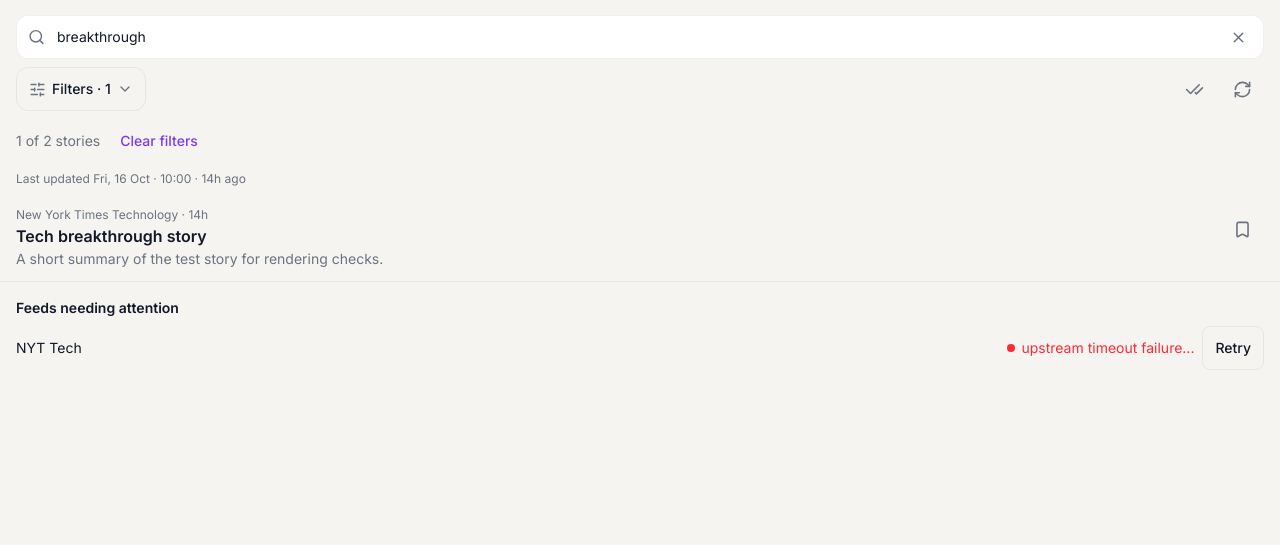
Test: FeedView › reveals the chips on expand and still filters with them
Click the button "Filters · 1" at (81, 89), box [16, 67, 146, 111]
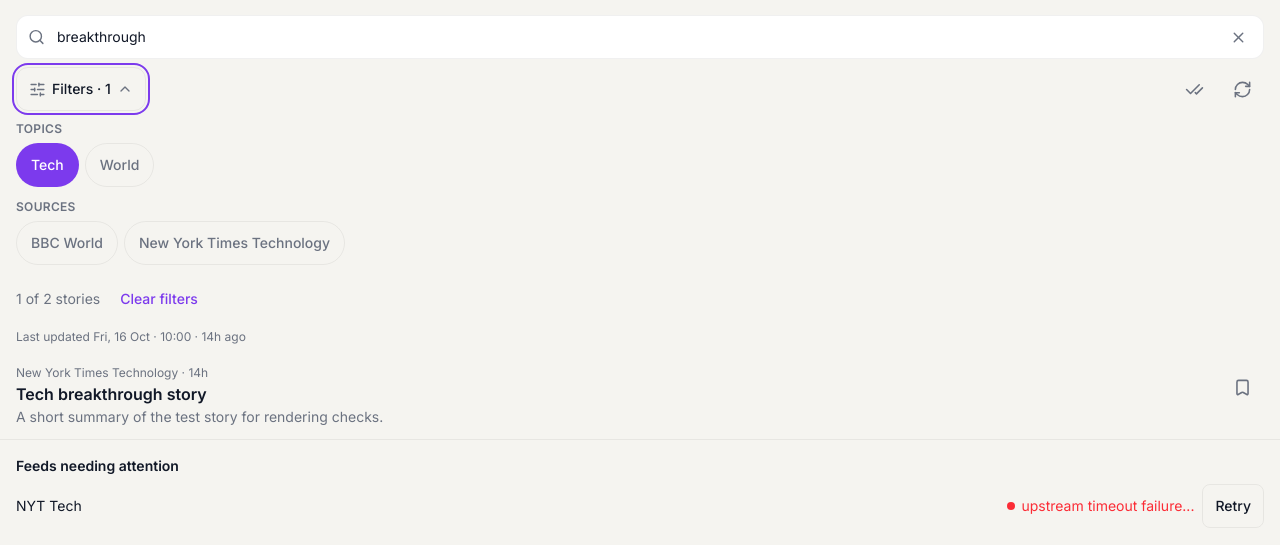
Expected: the button "Filters · 1" is expanded, [16, 67, 146, 111]
Expected: the element named "Topics" is shown, [16, 143, 154, 187]
Expected: the element named "Sources" is shown, [16, 221, 345, 265]
Click the button "Tech" at (47, 165), box [16, 143, 79, 187]
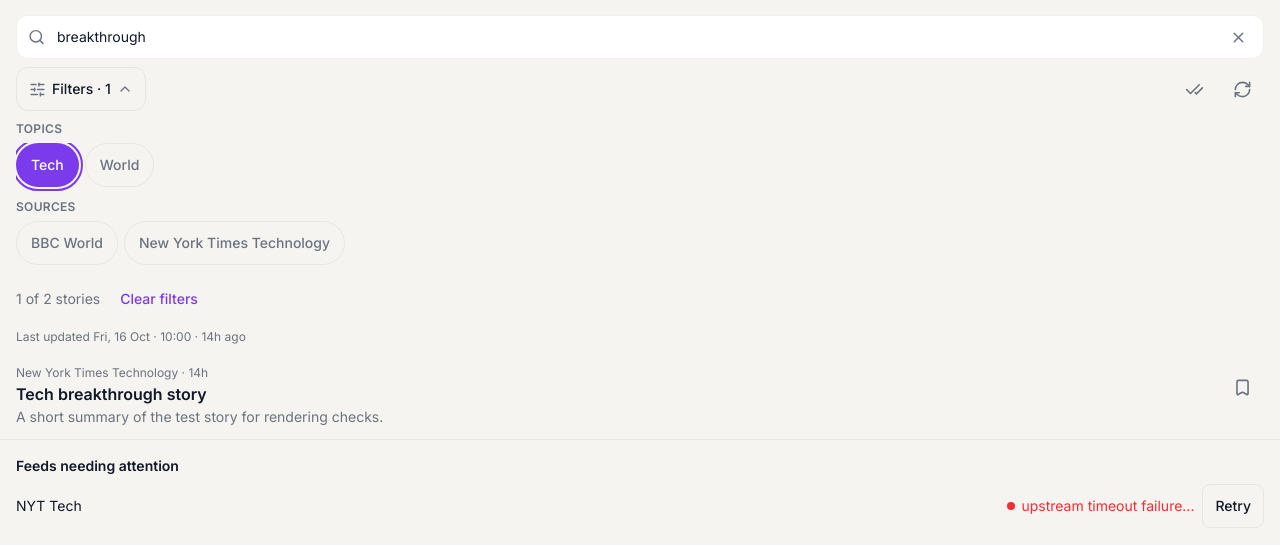
Click the button "BBC World" at (67, 243), box [16, 221, 118, 265]
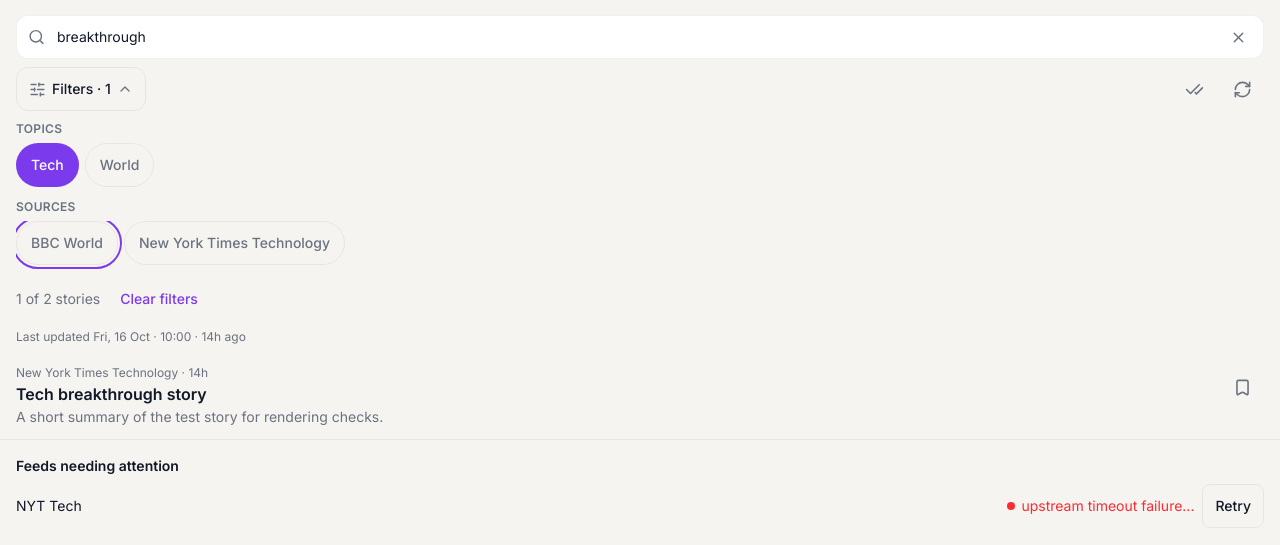
Click the button "Filters · 1" at (81, 89), box [16, 67, 146, 111]
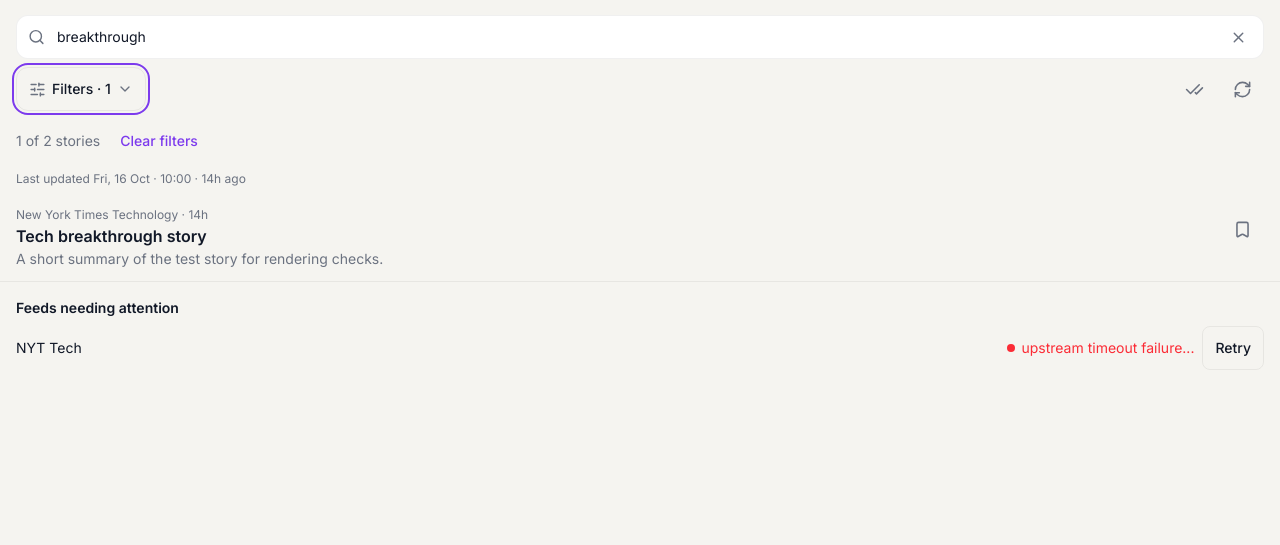
Expected: the button "Filters · 1" is collapsed, [16, 67, 146, 111]
